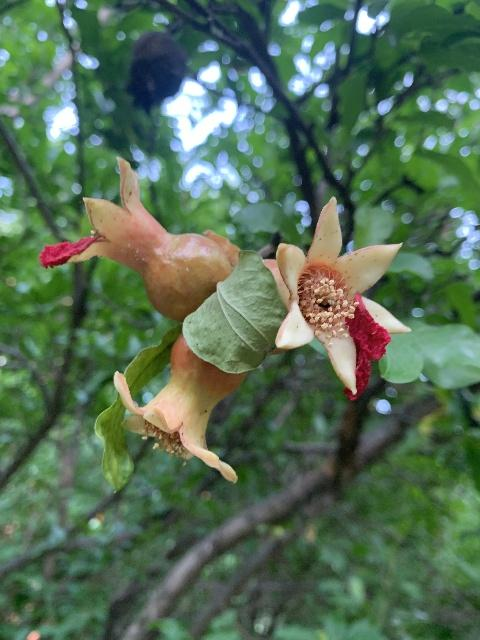early-fruit: (37, 157, 237, 321), (263, 196, 411, 401), (112, 333, 246, 483)
